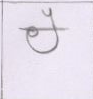ai_matra: (42, 8, 61, 27)
